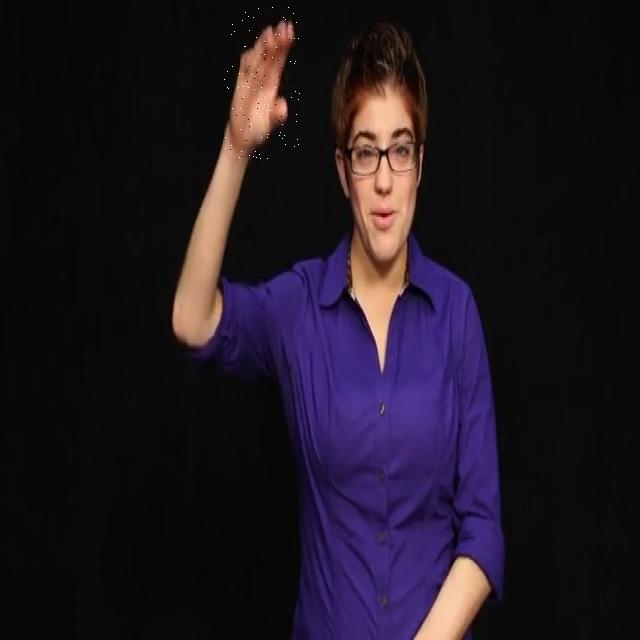hello: (224, 6, 300, 163)
